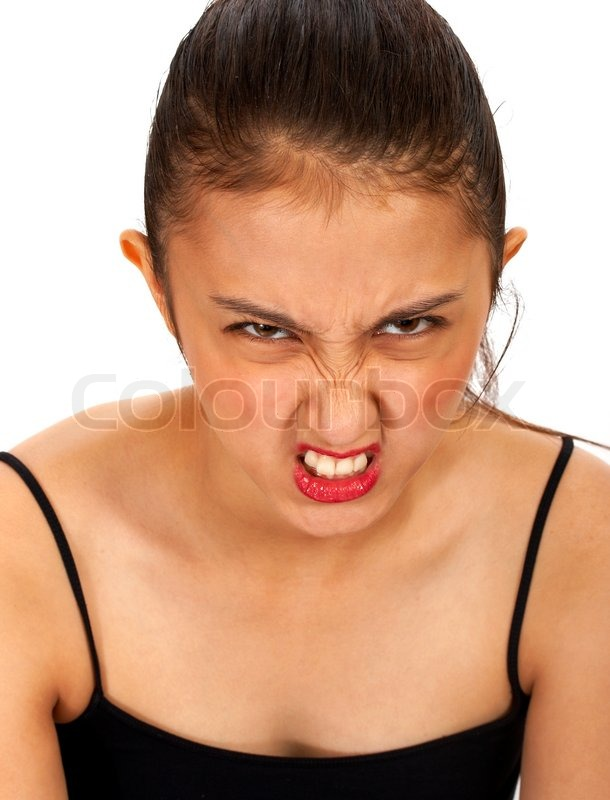angry: (171, 227, 491, 547)
